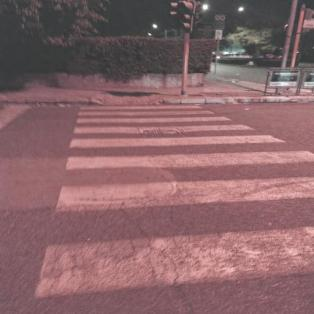Paso de Cebra: (30, 172, 313, 306), (63, 123, 288, 150)
